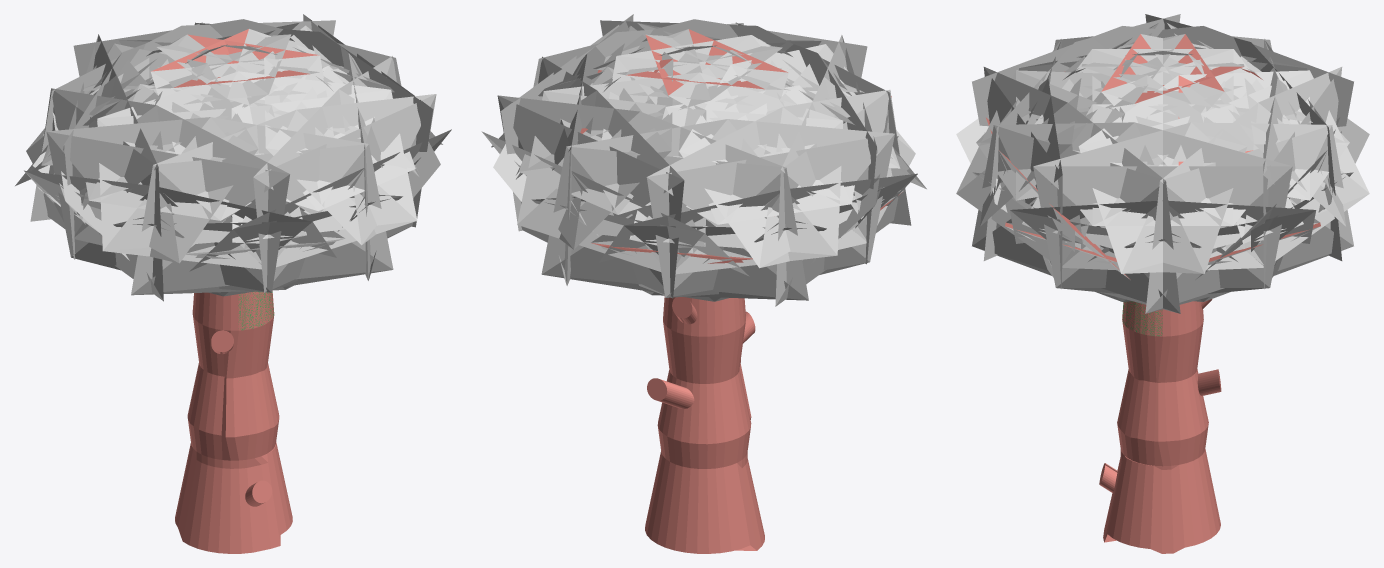
Rendered from TREEEEwoman.fbx.
3 renders of one model, left to right at view 1: azimuth 30°, elevation 25°; view 2: azimuth 150°, elevation 25°; view 3: azimuth 270°, elevation 25°, orthographic. The views are drawn at different scales.
Parts seen in each view (by area): view 1: Cylinder.001, Cylinder; view 2: Cylinder.001, Cylinder; view 3: Cylinder.001, Cylinder.
Part boxes in pixels (bbox=[...]): Cylinder.001: bbox=[15, 14, 451, 301]; Cylinder: bbox=[151, 29, 319, 553]; Cylinder.001: bbox=[481, 14, 926, 306]; Cylinder: bbox=[580, 29, 902, 553]; Cylinder.001: bbox=[956, 14, 1369, 313]; Cylinder: bbox=[986, 34, 1320, 553].
Size of the model in its own units: 1028 by 1225 by 976.
